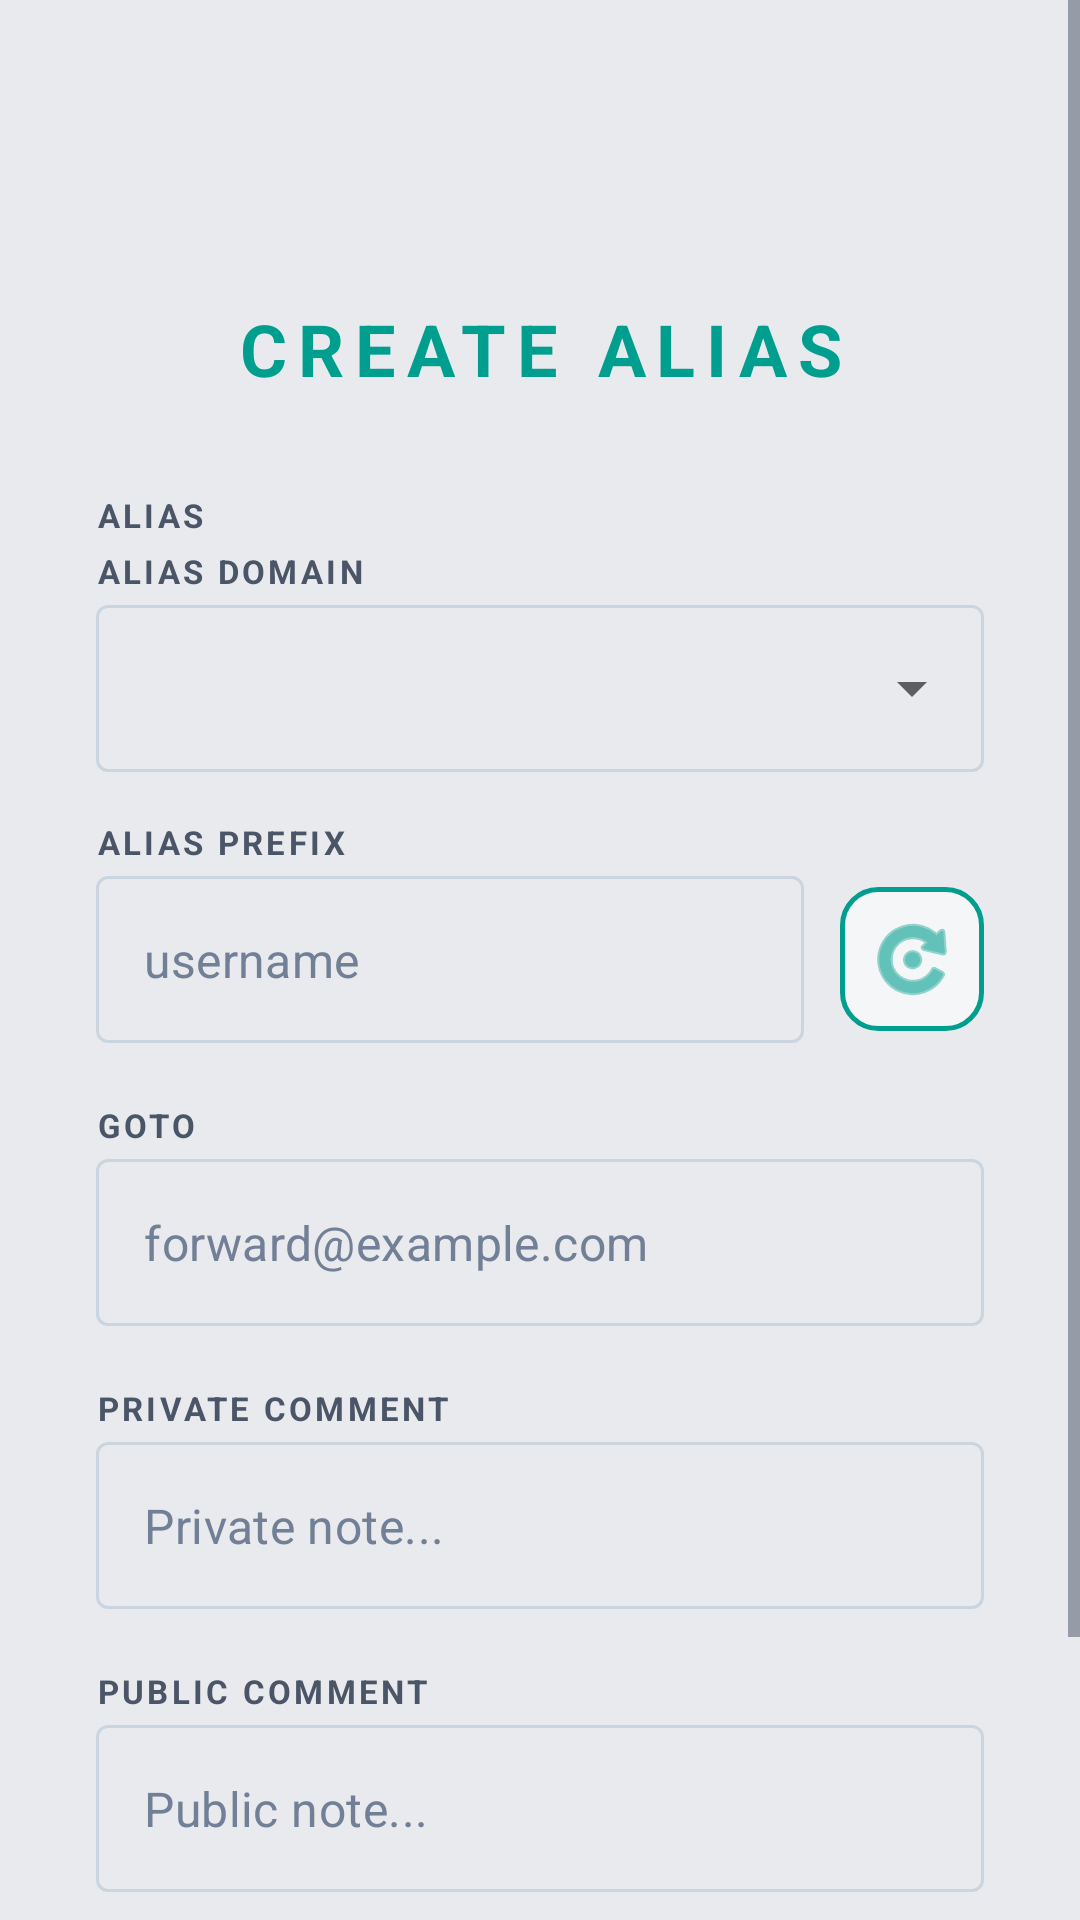

Icon bounding boxes for this 1080w x 1920h phone screenshot, format (x1, y1, x2, y2):
Generate new alias: (840, 887, 984, 1031)
